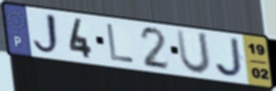2: (139, 26, 171, 72)
4: (68, 17, 95, 60)
J: (30, 12, 64, 57), (213, 36, 247, 79)
L: (105, 22, 137, 65)
U: (174, 28, 213, 77)
